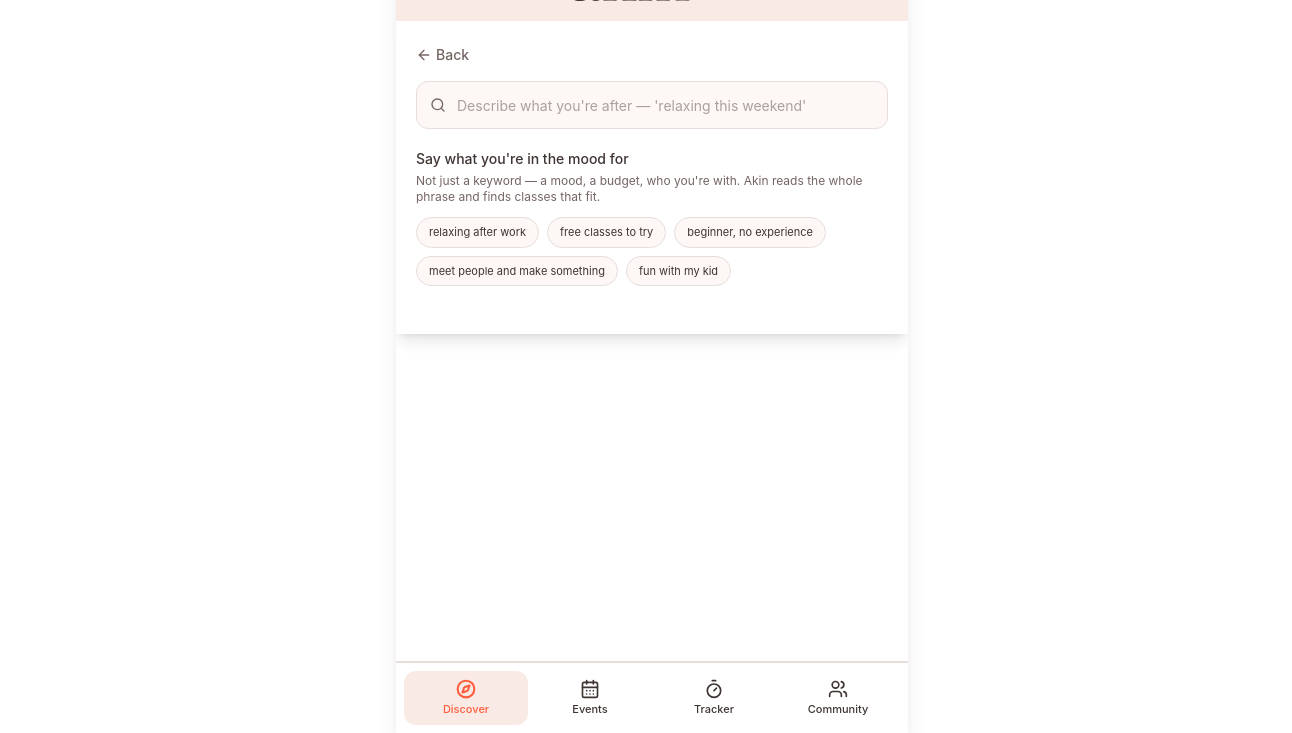
Test case: search page — teaching what the bar does › runs the example when tapped, and puts it in the box
Click the button "relaxing after work" at (478, 232), box [416,217,539,248]
(page scrolled)
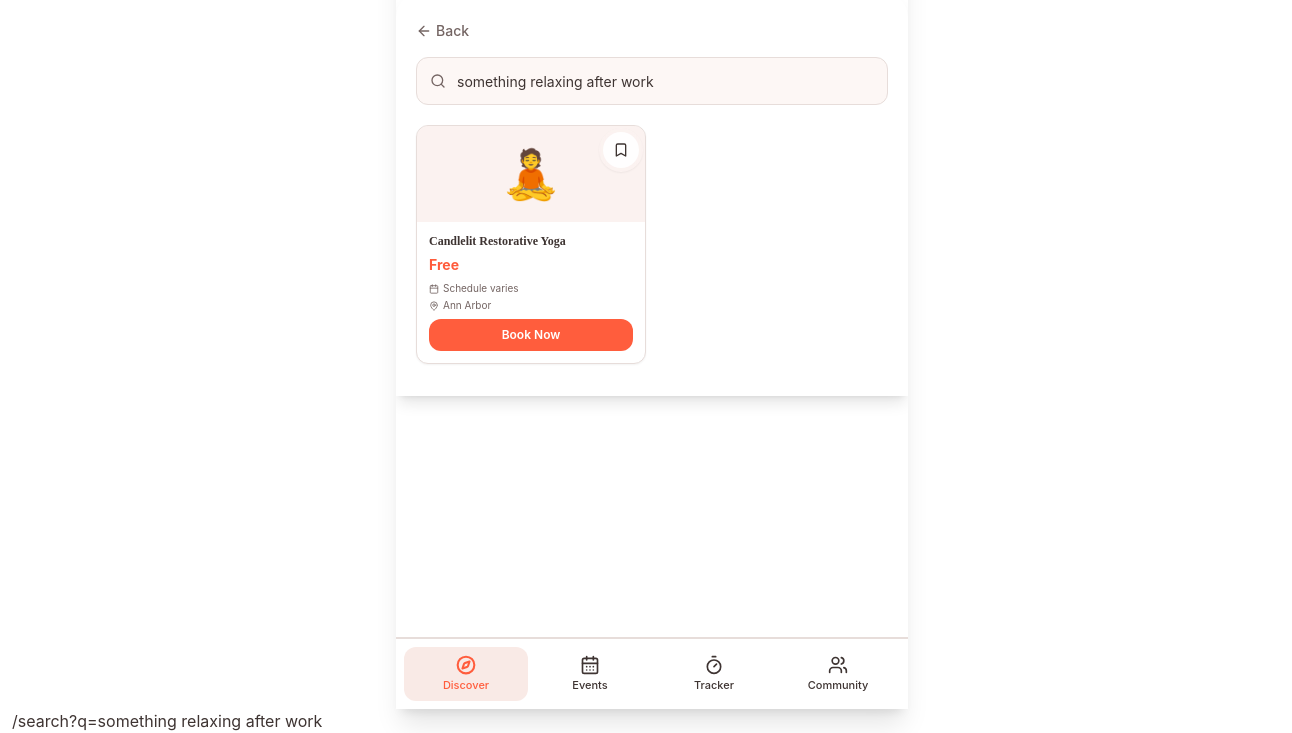
expect the field showing "something relaxing after work" is shown: met, box [416,57,888,105]
expect the text with test id "url" reads "/search?q=something relaxing after work": met, box [12,711,322,731]
